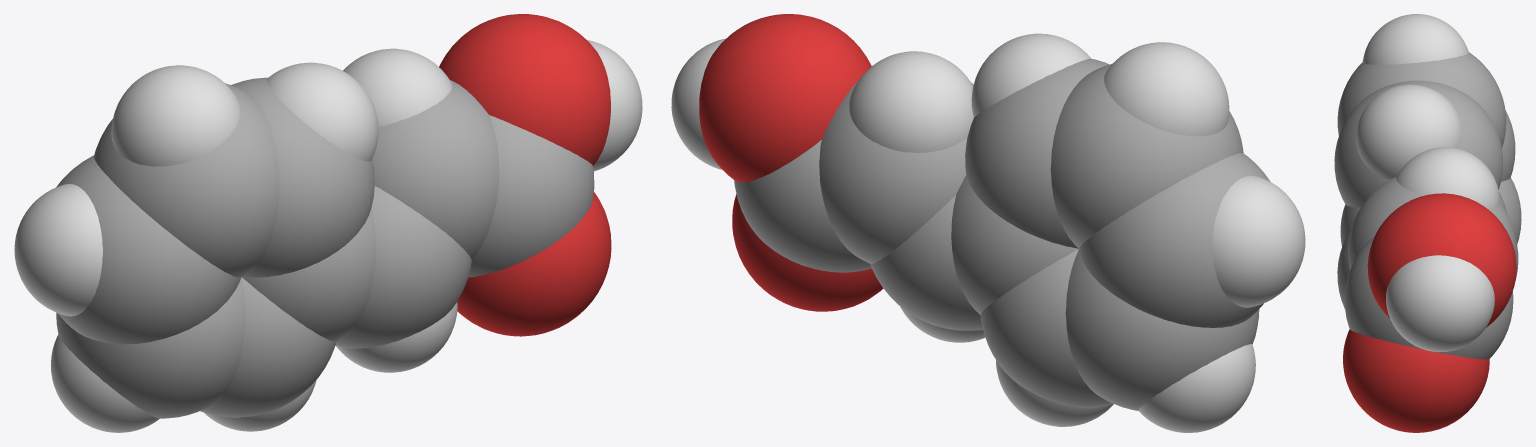
Rendered from 444539-CPK-color-print_NIH3D.glb.
3 views of the same model, side by side, from view 1: azimuth 30°, elevation 25°; view 2: azimuth 150°, elevation 25°; view 3: azimuth 270°, elevation 25° (orthographic). The views are drawn at different scales.
Parts seen in each view (by area): view 1: atoms; view 2: atoms; view 3: atoms.
Boxes of the visible parts, x1,y1,x2,y2 form: atoms: (14,14,642,432); atoms: (671,14,1305,432); atoms: (1334,14,1521,432).
Size of the model in its own units: 11.5 by 6.88 by 3.77.
